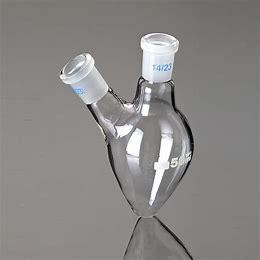Pear shaped flask: (47, 12, 200, 218)
